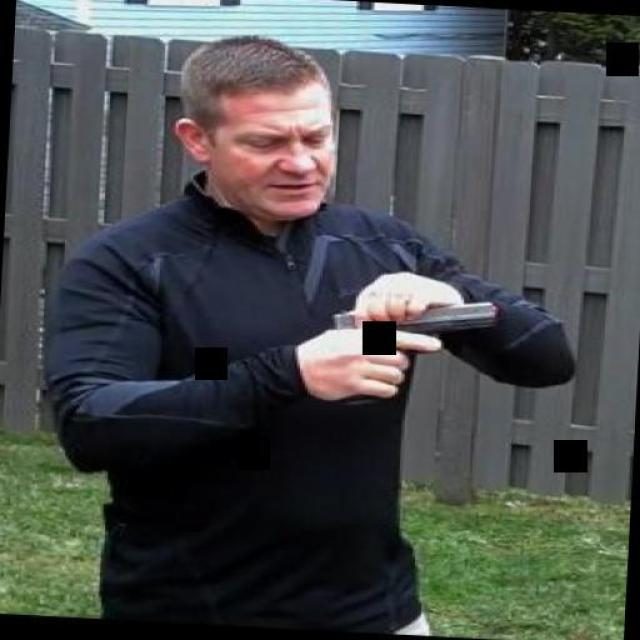gun: (319, 288, 496, 402)
